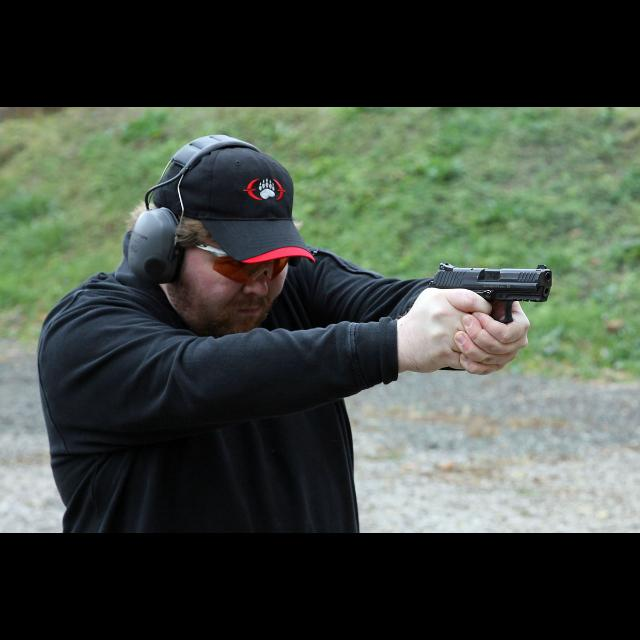handgun: (423, 260, 559, 326)
